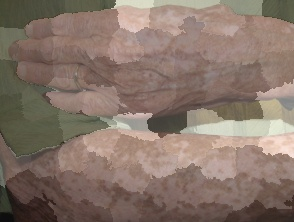vitiligo: (6, 0, 294, 121), (0, 125, 294, 222)
